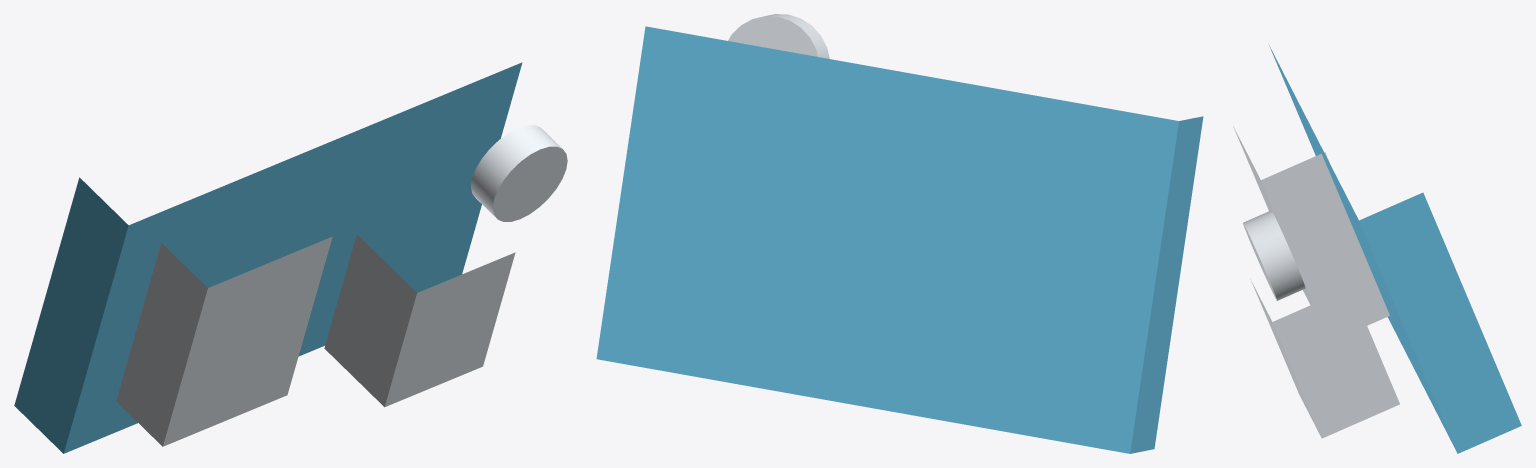
File: calibration-block.glb
3 renders of one model, left to right at view 1: azimuth 30°, elevation 25°; view 2: azimuth 150°, elevation 25°; view 3: azimuth 270°, elevation 25°, orthographic. The views are drawn at different scales.
Bounding box in the file's own units: 1.24 × 0.7799 × 0.7441.
